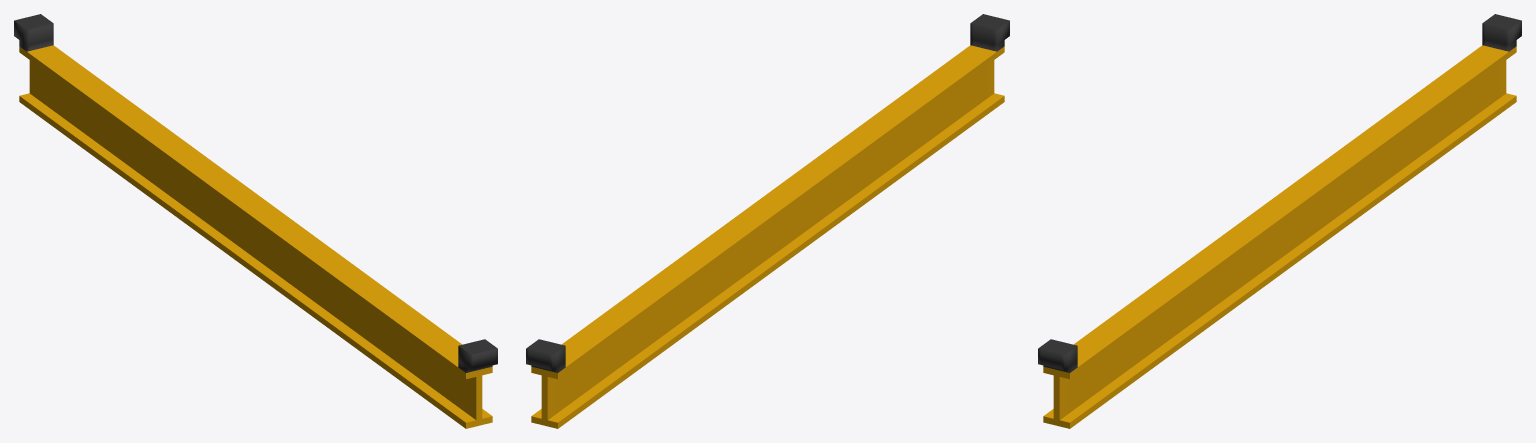
Rendered from Crane_Girder_30ft.fbx.
3 renders of one model, left to right at view 1: azimuth 30°, elevation 25°; view 2: azimuth 150°, elevation 25°; view 3: azimuth 330°, elevation 25°, orthographic.
Visible parts, largest first — view 1: Girder_30ft; view 2: Girder_30ft; view 3: Girder_30ft.
Boxes of the visible parts, x1,y1,x2,y2 form: Girder_30ft: (14, 14, 497, 428); Girder_30ft: (526, 14, 1009, 428); Girder_30ft: (1038, 14, 1521, 428).
Size of the model in its own units: 30.48 by 84.85 by 904.
